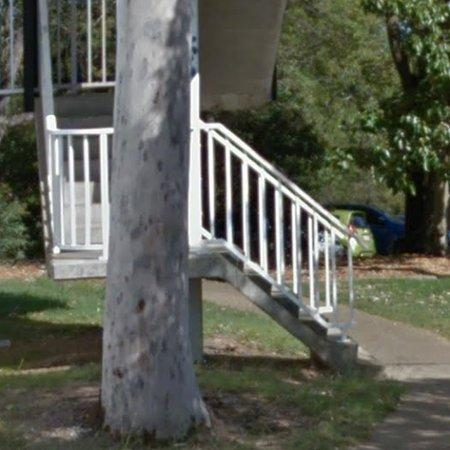stairs: (191, 242, 359, 370), (44, 88, 113, 279)
